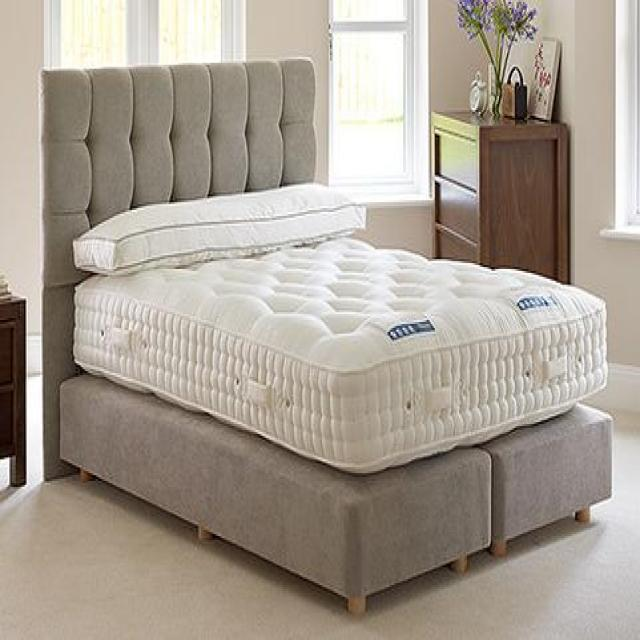bed: (39, 57, 616, 622)
